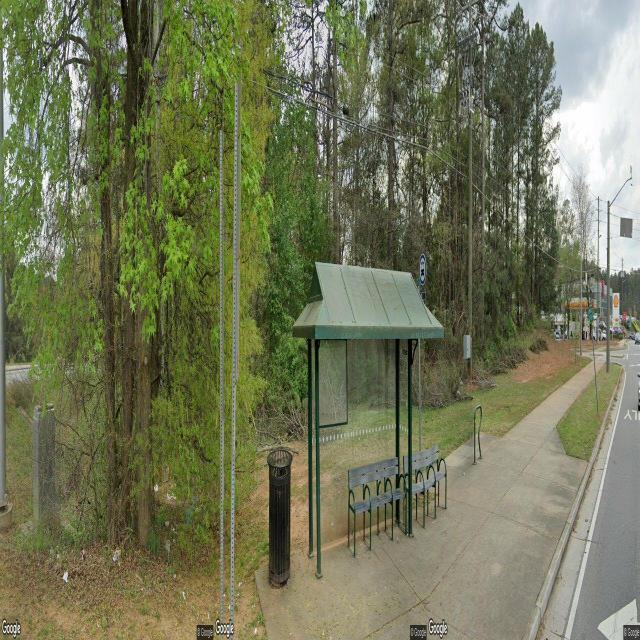seating: (347, 457, 407, 558), (402, 444, 448, 524), (409, 616, 448, 640)
shelter: (296, 292, 444, 570)
trash_can: (266, 450, 292, 583)
